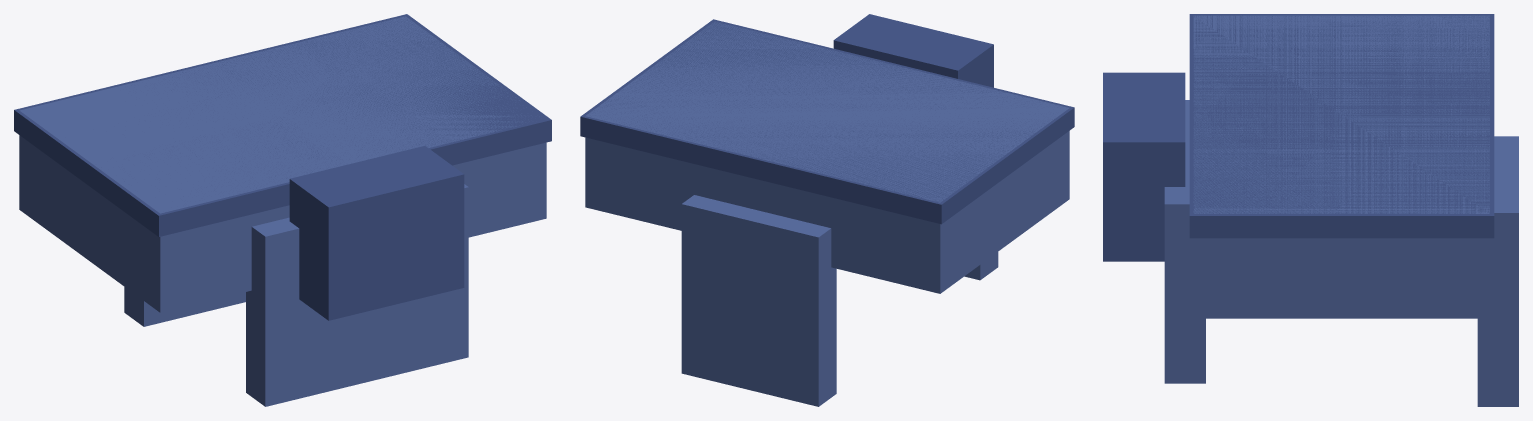
Rendered from mawashi_sumo.glb.
3 renders of one model, left to right at view 1: azimuth 30°, elevation 25°; view 2: azimuth 150°, elevation 25°; view 3: azimuth 270°, elevation 25°, orthographic. The views are drawn at different scales.
Parts seen in each view (by area): view 1: mawashi_sumo; view 2: mawashi_sumo; view 3: mawashi_sumo.
Boxes of the visible parts, box(x1,y1,x2,y2) form: mawashi_sumo: box(14, 14, 551, 406); mawashi_sumo: box(580, 14, 1074, 406); mawashi_sumo: box(1103, 14, 1518, 406).
Size of the model in its own units: 0.58 by 0.35 by 0.505.
